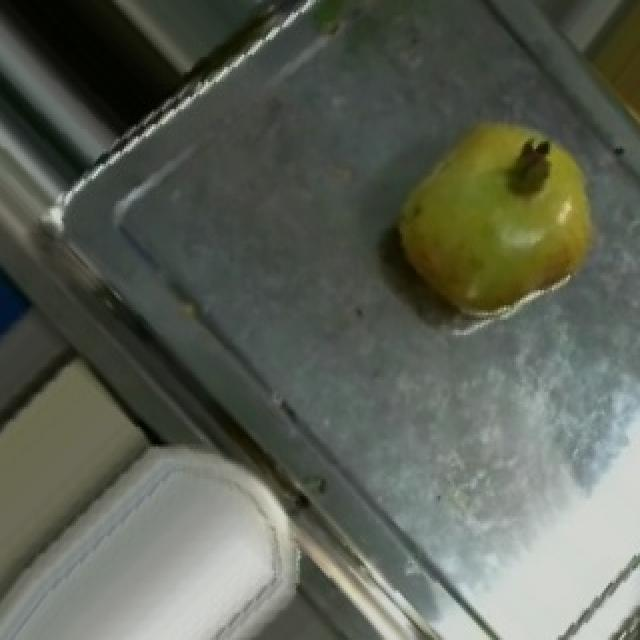fruit: (362, 92, 628, 352)
